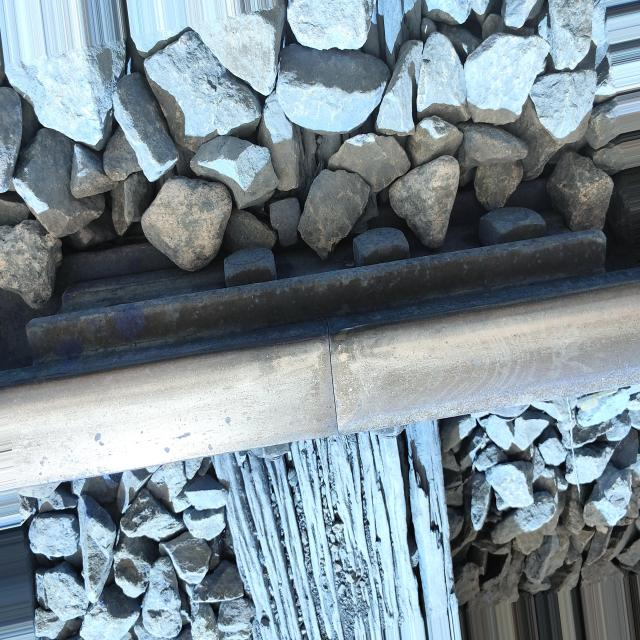crack: (311, 338, 366, 444)
